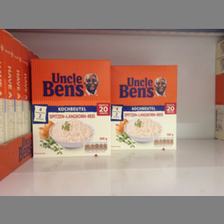rice: (30, 58, 114, 159), (110, 64, 179, 151)
